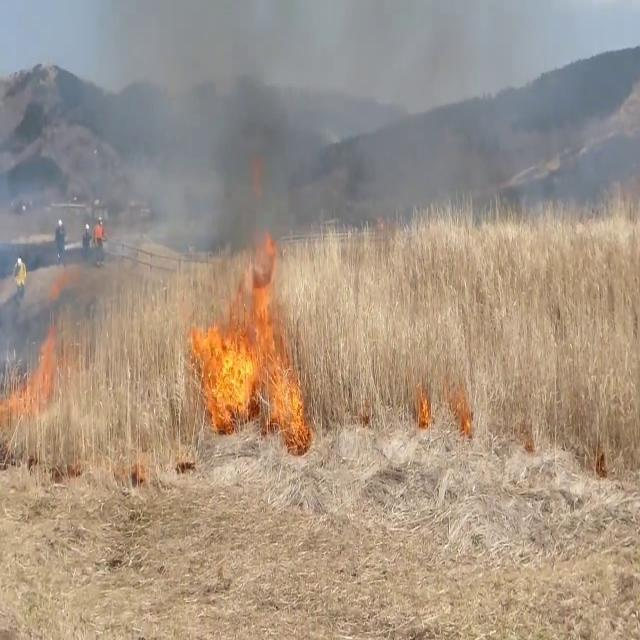Fire: (186, 233, 310, 436)
Smoke: (100, 1, 422, 287)
